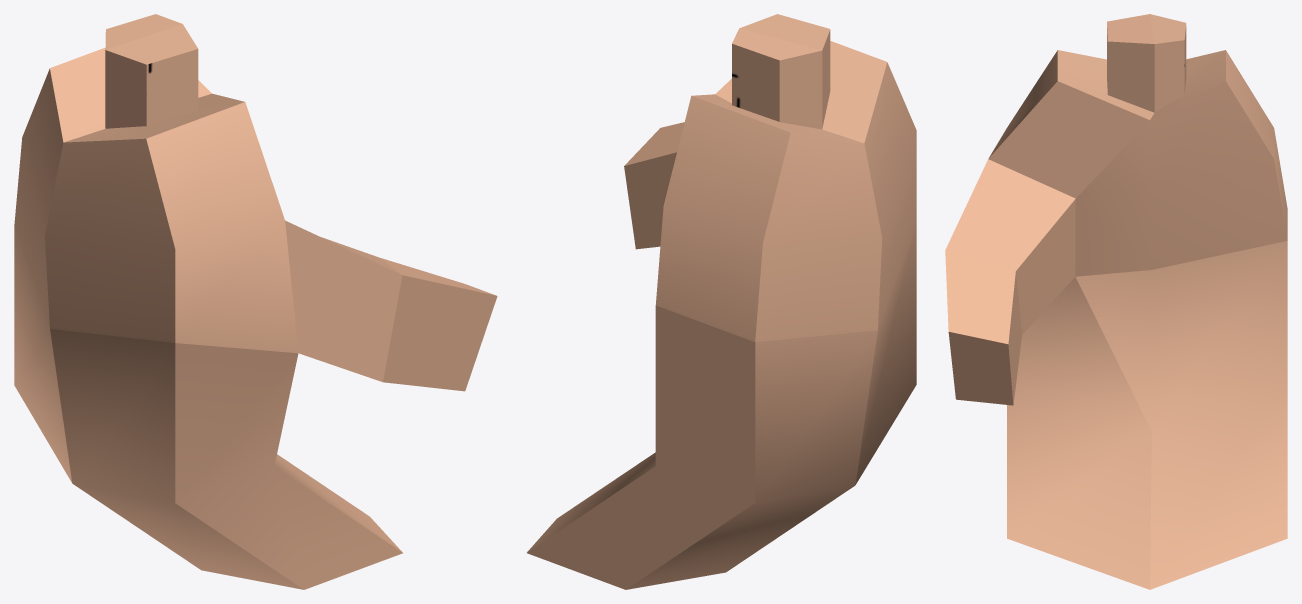
Rendered from ManoCortada.fbx.
3 views of the same model, side by side, from view 1: azimuth 30°, elevation 25°; view 2: azimuth 150°, elevation 25°; view 3: azimuth 270°, elevation 25° (orthographic). The views are drawn at different scales.
Visible parts, largest first — view 1: ManoCortada; view 2: ManoCortada; view 3: ManoCortada.
Part boxes in pixels (box(x1,y1,x2,y2)): ManoCortada: box(14, 14, 497, 589); ManoCortada: box(527, 14, 916, 589); ManoCortada: box(945, 14, 1287, 589).
Bounding box in the file's own units: 14.23 × 22 × 14.28.
